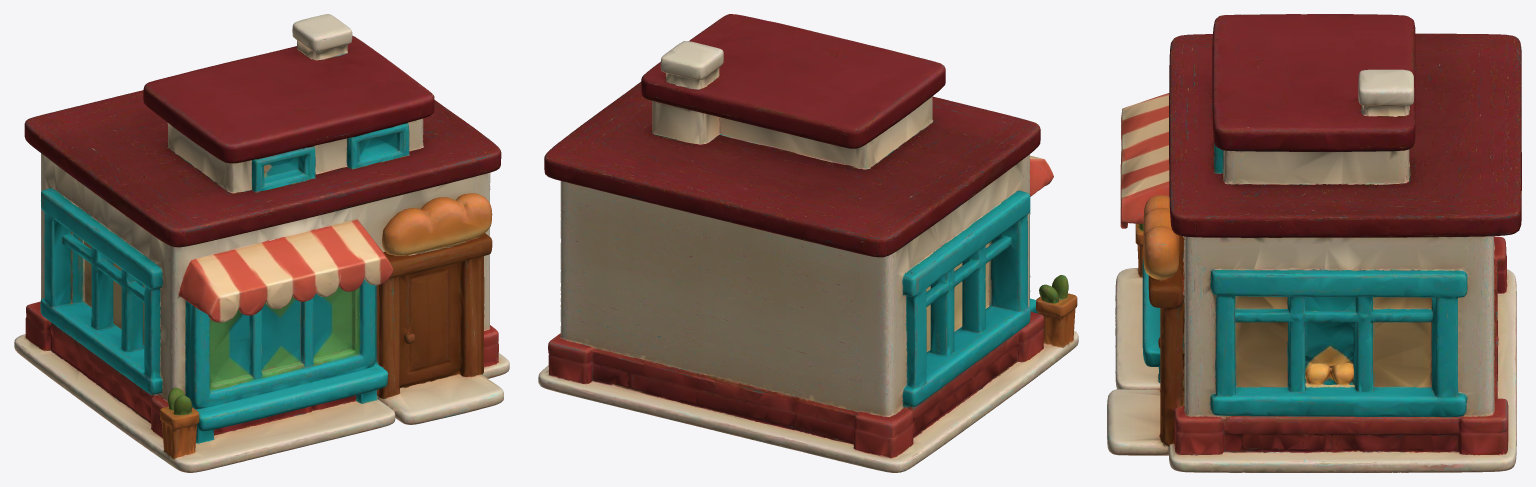
The model's file is ComfyUI_00001.glb.
3 views of the same model, side by side, from view 1: azimuth 30°, elevation 25°; view 2: azimuth 150°, elevation 25°; view 3: azimuth 270°, elevation 25° (orthographic). The views are drawn at different scales.
Size of the model in its own units: 0.9932 by 0.81 by 0.8831.
Materials: 1 (1 with a texture image).
